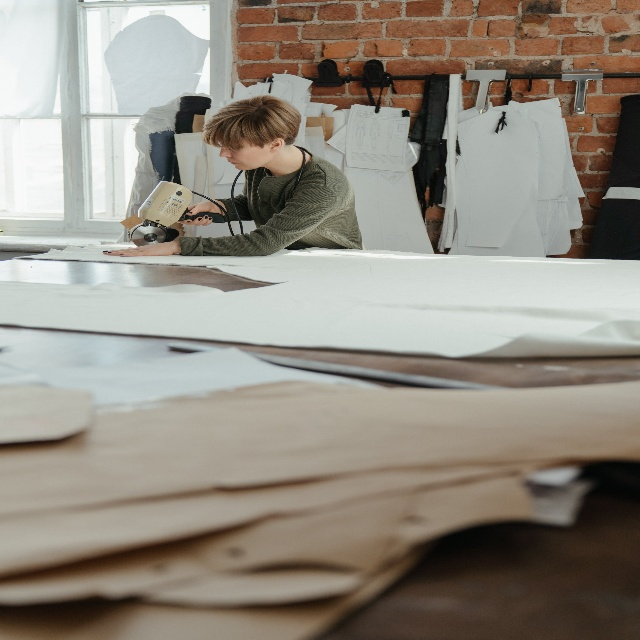Sin_guantes: (103, 241, 173, 258), (176, 200, 219, 227)
